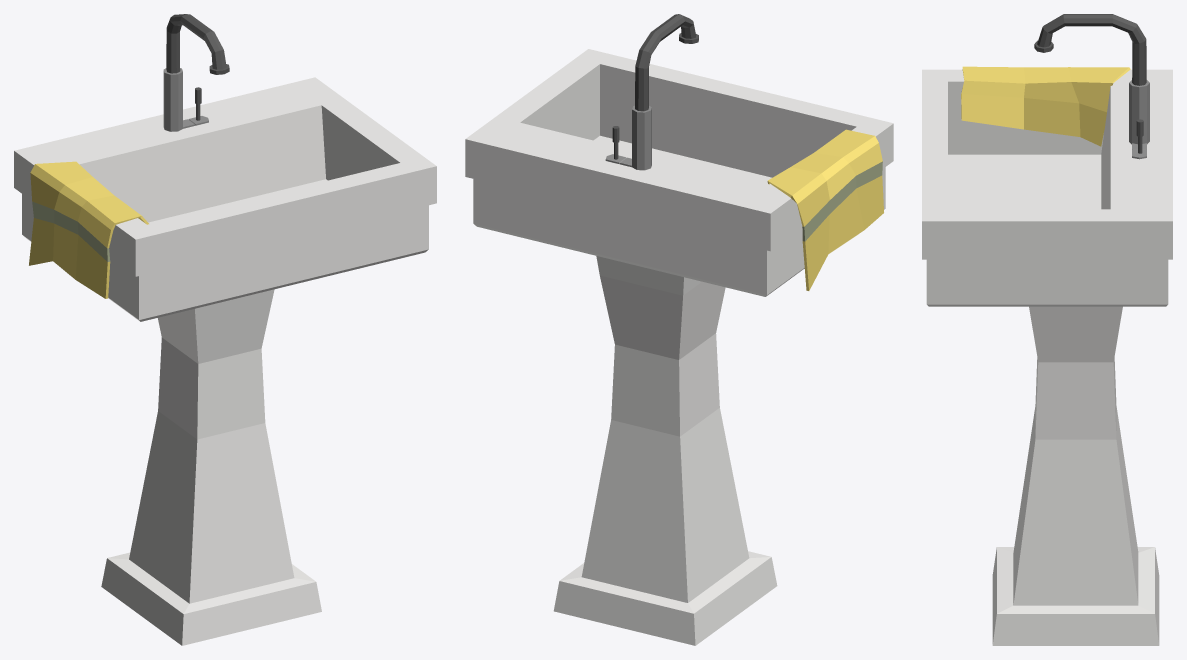
File: Washstand_4.fbx
3 views of the same model, side by side, from view 1: azimuth 30°, elevation 25°; view 2: azimuth 150°, elevation 25°; view 3: azimuth 270°, elevation 25° (orthographic). The views are drawn at different scales.
Parts seen in each view (by area): view 1: Washstand_4; view 2: Washstand_4; view 3: Washstand_4.
Boxes of the visible parts, x1=… form: Washstand_4: x1=14, y1=14, x2=436, y2=645; Washstand_4: x1=465, y1=14, x2=893, y2=645; Washstand_4: x1=922, y1=14, x2=1172, y2=645.
Bounding box in the file's own units: 114 × 75.6 × 197.
